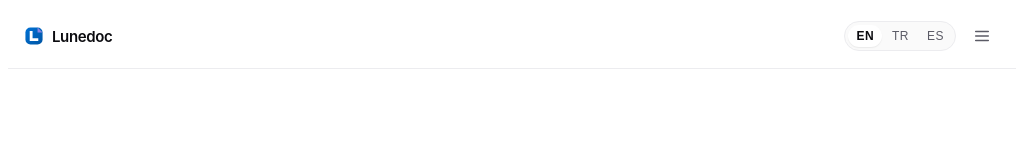
it: Header (mobile branch) › toggles aria-expanded and panel visibility on repeated clicks
Click the button named "Menu": (982, 36) [964, 16, 1000, 56]
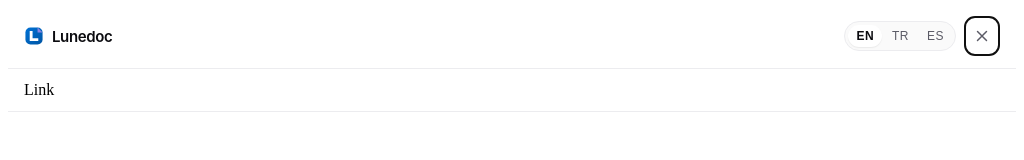
Expected: the button named "Menu" is expanded
Expected: the link with test id "mobile-link" is shown, [24, 81, 54, 98]
Click the button named "Menu": (982, 36) [964, 16, 1000, 56]
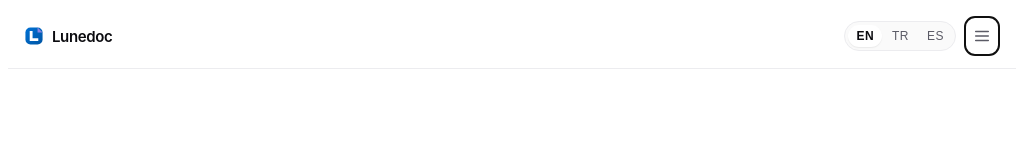
Expected: the button named "Menu" is collapsed, [964, 16, 1000, 56]
Expected: the link with test id "mobile-link" is gone
